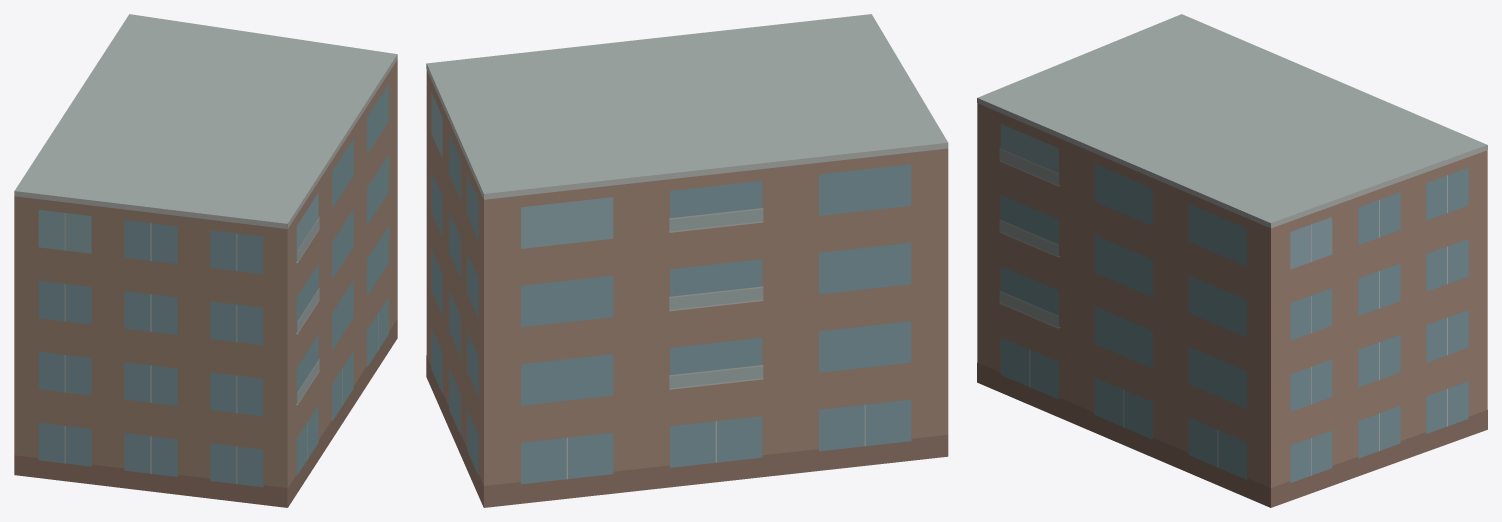
File: survey-upis-33023935.glb
3 views of the same model, side by side, from view 1: azimuth 30°, elevation 25°; view 2: azimuth 150°, elevation 25°; view 3: azimuth 270°, elevation 25° (orthographic). The views are drawn at different scales.
Parts seen in each view (by area): view 1: survey-upis-33023935.tmp; view 2: survey-upis-33023935.tmp; view 3: survey-upis-33023935.tmp.
Boxes of the visible parts, box(x1,y1,x2,y2) form: survey-upis-33023935.tmp: box(14, 14, 397, 507); survey-upis-33023935.tmp: box(426, 14, 948, 507); survey-upis-33023935.tmp: box(977, 14, 1487, 507).
Size of the model in its own units: 21.05 by 13.35 by 21.71.
